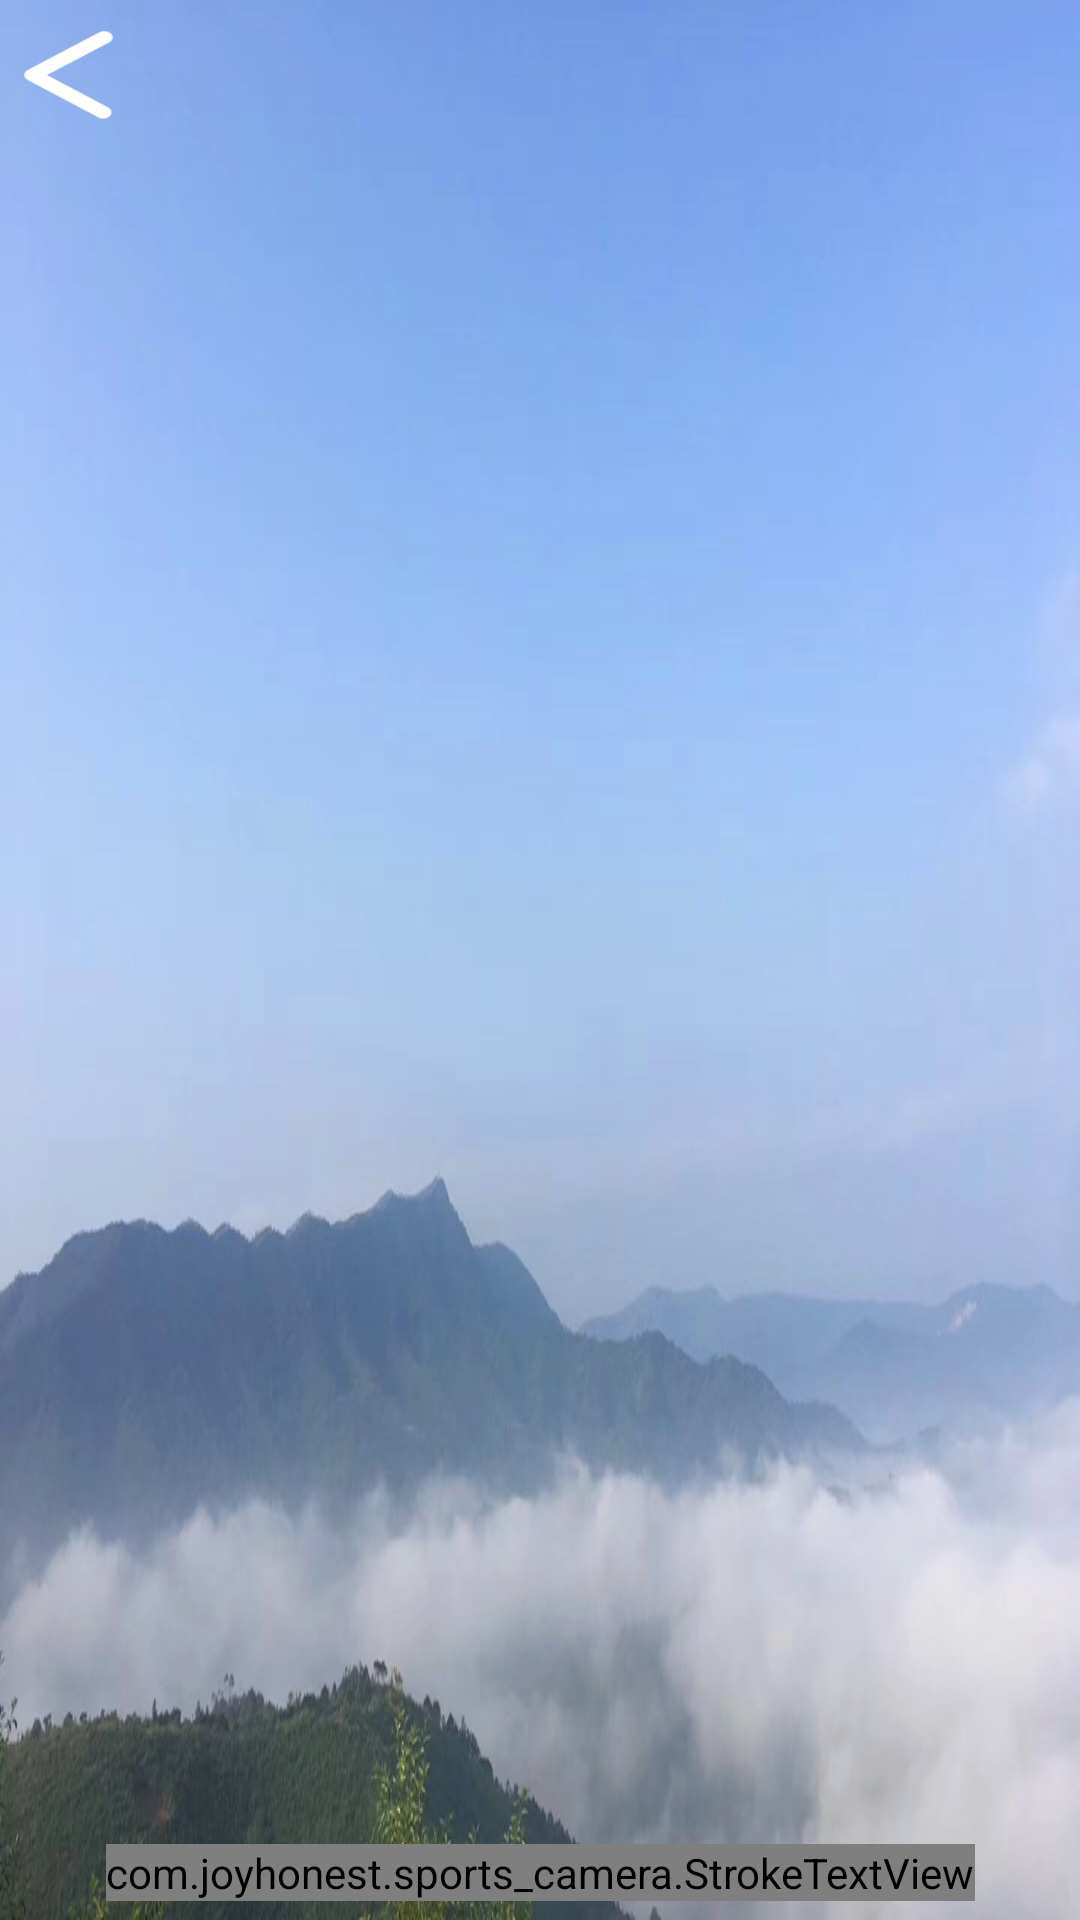

Locate icon controls on the screen. Image size 1080 × 1920, boxes as Rect(x1, y1, x2, y2).
back: Rect(24, 31, 113, 119)
